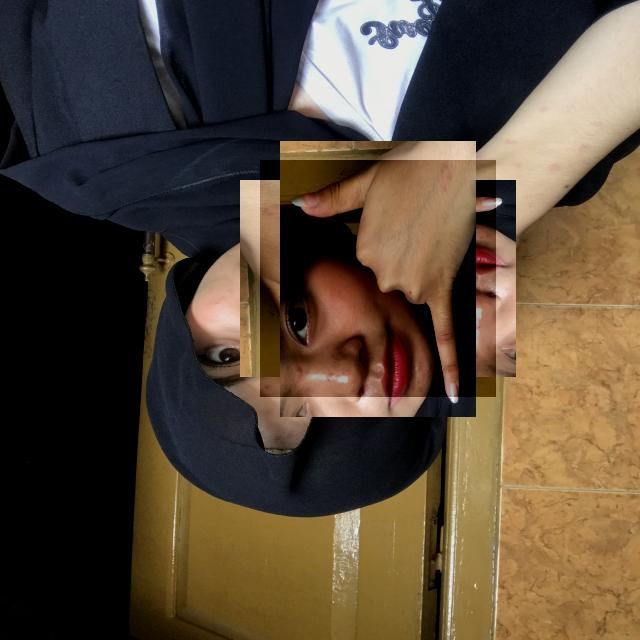telpon: (260, 160, 496, 397)
